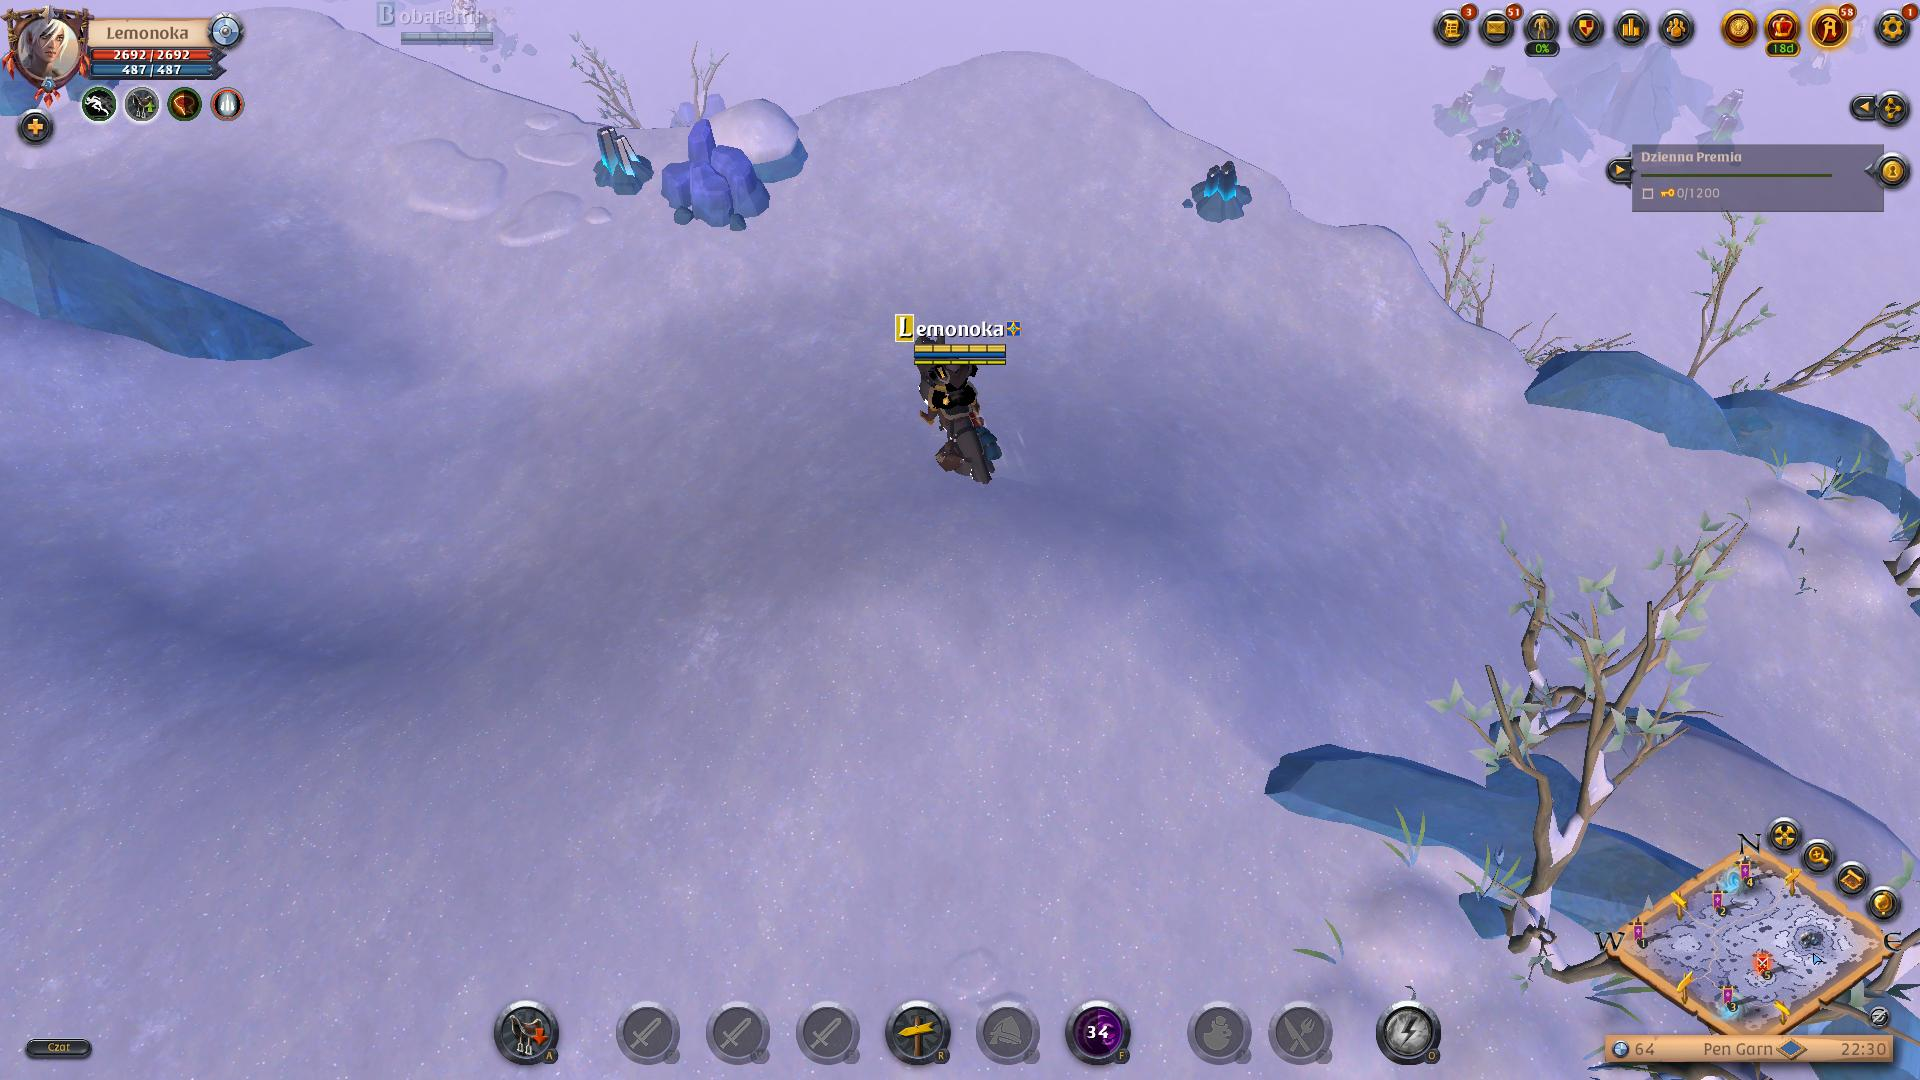ore tier 4: (587, 120, 657, 200), (1188, 157, 1257, 228)
rock tier 4: (658, 119, 773, 236)
